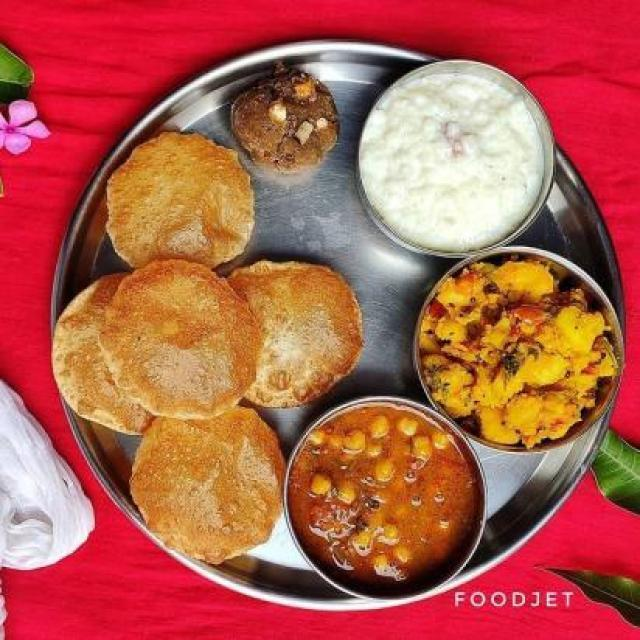chole: (295, 406, 479, 584)
poori: (56, 272, 350, 424), (120, 402, 286, 560), (94, 123, 265, 275)
